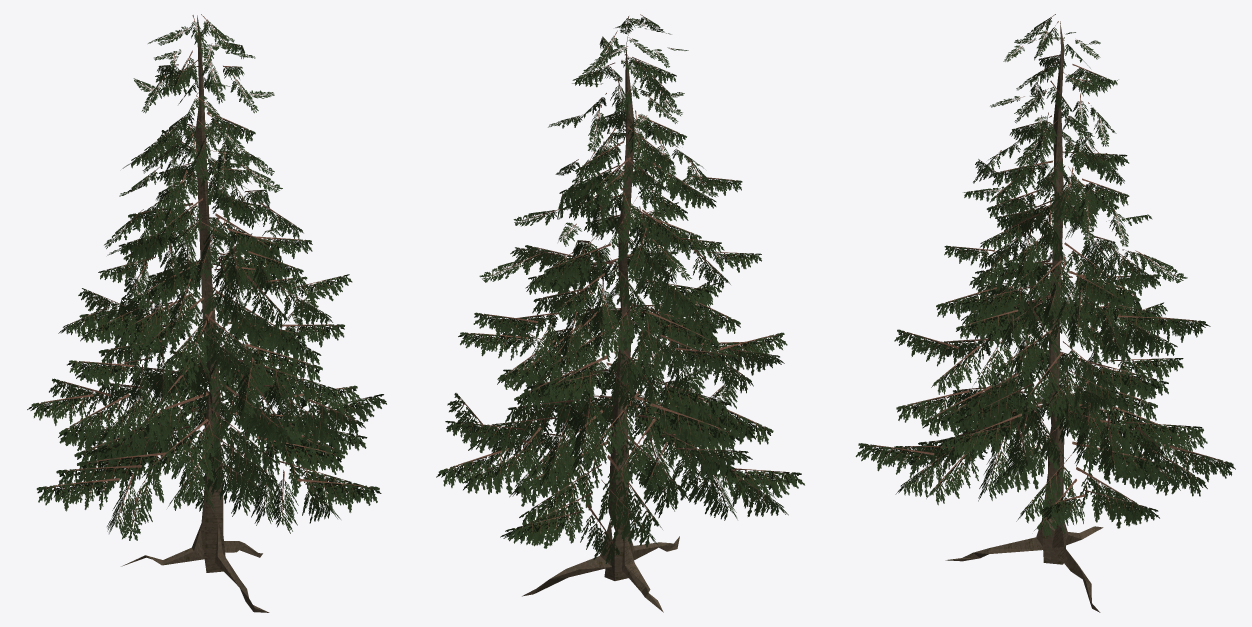
File: Tree_Pine.fbx
3 renders of one model, left to right at view 1: azimuth 30°, elevation 25°; view 2: azimuth 150°, elevation 25°; view 3: azimuth 270°, elevation 25°, orthographic. The views are drawn at different scales.
Parts seen in each view (by area): view 1: SprucePine_LOD2:SprucePine_LOD2_1, SprucePine_LOD2:SprucePine_LOD2_0; view 2: SprucePine_LOD2:SprucePine_LOD2_1, SprucePine_LOD2:SprucePine_LOD2_0; view 3: SprucePine_LOD2:SprucePine_LOD2_1, SprucePine_LOD2:SprucePine_LOD2_0.
Boxes of the visible parts, x1=… form: SprucePine_LOD2:SprucePine_LOD2_1: x1=27, y1=14, x2=386, y2=540; SprucePine_LOD2:SprucePine_LOD2_0: x1=121, y1=15, x2=269, y2=612; SprucePine_LOD2:SprucePine_LOD2_1: x1=436, y1=14, x2=804, y2=565; SprucePine_LOD2:SprucePine_LOD2_0: x1=522, y1=25, x2=679, y2=612; SprucePine_LOD2:SprucePine_LOD2_1: x1=855, y1=14, x2=1235, y2=538; SprucePine_LOD2:SprucePine_LOD2_0: x1=945, y1=21, x2=1103, y2=612.
Bounding box in the file's own units: 5.19 × 7.98 × 5.1.
Materials: 2 (2 with a texture image).
